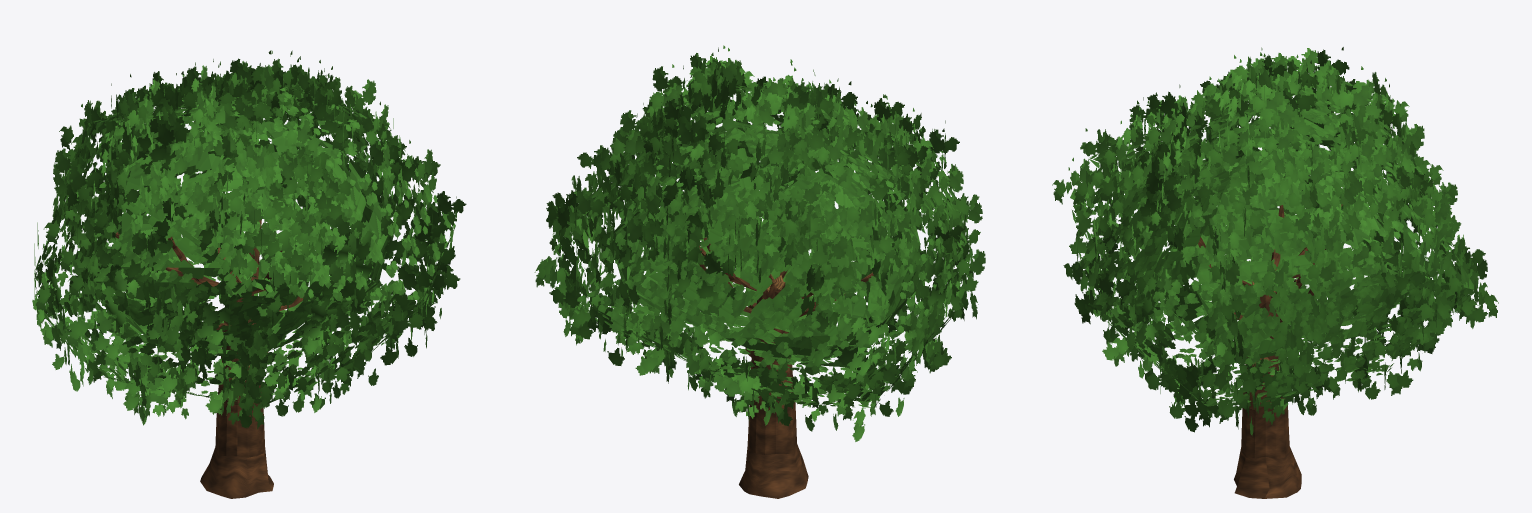
File: cow_tree_2.glb
3 views of the same model, side by side, from view 1: azimuth 30°, elevation 25°; view 2: azimuth 150°, elevation 25°; view 3: azimuth 270°, elevation 25° (orthographic).
Visible parts, largest first — view 1: __exp_cow_tree_2_Canopy_Stump.002, __exp_cow_tree_2_LeafBlob_Skirt_Canopy_Stump.002, __exp_cow_tree_2_LeafBlob_Skirt_Canopy_Stump.002_inner, __exp_cow_tree_2_Trunk_Stump.002, __exp_cow_tree_2_Stump.002; view 2: __exp_cow_tree_2_Canopy_Stump.002, __exp_cow_tree_2_LeafBlob_Skirt_Canopy_Stump.002, __exp_cow_tree_2_LeafBlob_Skirt_Canopy_Stump.002_inner, __exp_cow_tree_2_Trunk_Stump.002, __exp_cow_tree_2_Stump.002; view 3: __exp_cow_tree_2_Canopy_Stump.002, __exp_cow_tree_2_LeafBlob_Skirt_Canopy_Stump.002, __exp_cow_tree_2_LeafBlob_Skirt_Canopy_Stump.002_inner, __exp_cow_tree_2_Trunk_Stump.002, __exp_cow_tree_2_Stump.002.
Boxes of the visible parts, box(x1,y1,x2,y2) form: __exp_cow_tree_2_Canopy_Stump.002: box(32, 50, 466, 429); __exp_cow_tree_2_LeafBlob_Skirt_Canopy_Stump.002: box(34, 86, 455, 405); __exp_cow_tree_2_LeafBlob_Skirt_Canopy_Stump.002_inner: box(78, 120, 389, 358); __exp_cow_tree_2_Trunk_Stump.002: box(115, 219, 304, 457); __exp_cow_tree_2_Stump.002: box(200, 447, 273, 498); __exp_cow_tree_2_Canopy_Stump.002: box(534, 45, 985, 441); __exp_cow_tree_2_LeafBlob_Skirt_Canopy_Stump.002: box(552, 75, 966, 408); __exp_cow_tree_2_LeafBlob_Skirt_Canopy_Stump.002_inner: box(613, 121, 920, 367); __exp_cow_tree_2_Trunk_Stump.002: box(699, 237, 873, 454); __exp_cow_tree_2_Stump.002: box(739, 444, 808, 498); __exp_cow_tree_2_Canopy_Stump.002: box(1052, 47, 1498, 435); __exp_cow_tree_2_LeafBlob_Skirt_Canopy_Stump.002: box(1070, 71, 1474, 406); __exp_cow_tree_2_LeafBlob_Skirt_Canopy_Stump.002_inner: box(1128, 108, 1429, 358); __exp_cow_tree_2_Trunk_Stump.002: box(1198, 204, 1342, 458); __exp_cow_tree_2_Stump.002: box(1234, 446, 1301, 498).
Size of the model in its own units: 5.85 by 5.95 by 5.8.
5 materials, 5 textured.
